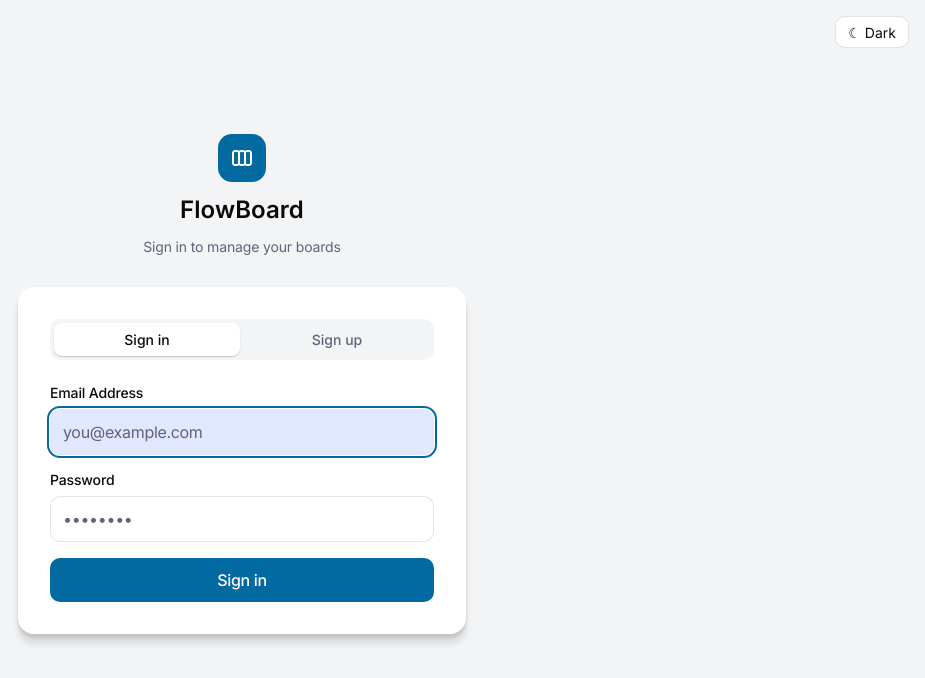
it: sign-in form › announces errors and declares the email autocomplete token
Type "a@b.co" into the field labelled "Email Address". click: (242, 432)
box: [50,409,434,455]
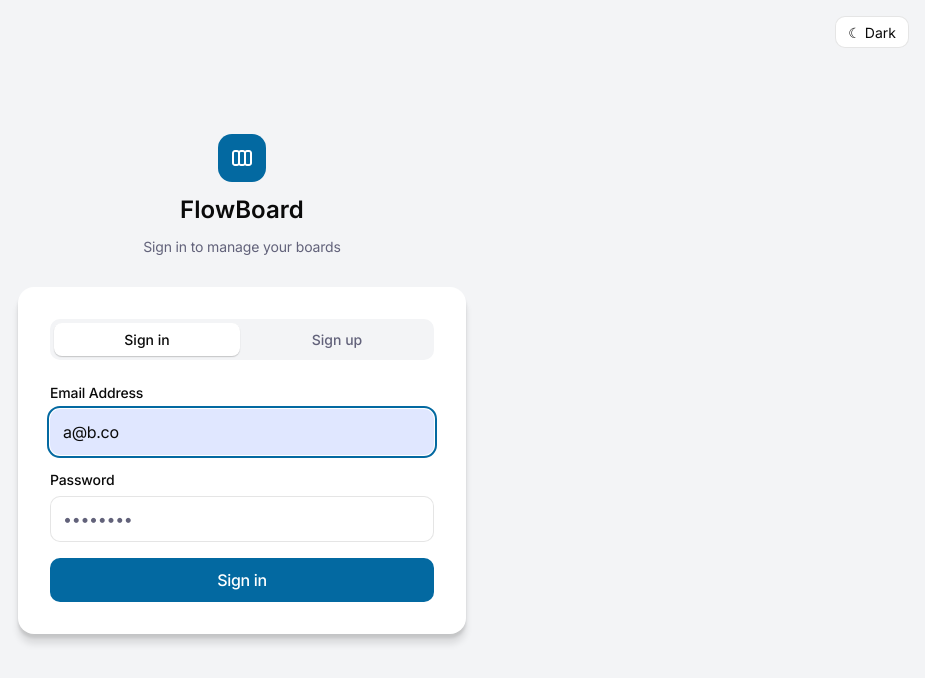
Type "pw-pw-pw-pw" into the password field labelled "Password". click: (242, 519)
box: [50,496,434,542]
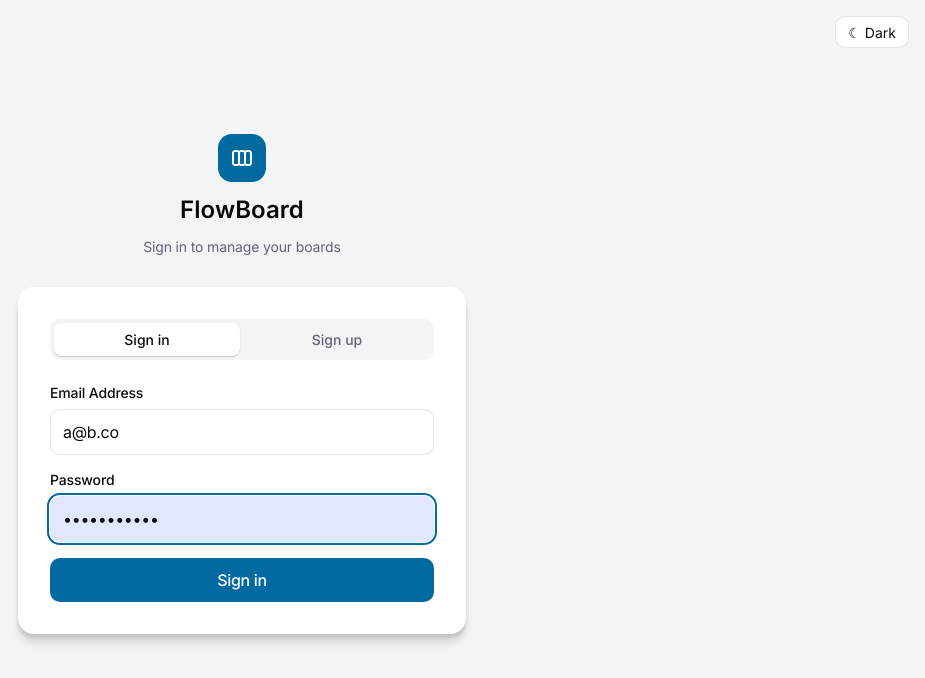
Press Enter
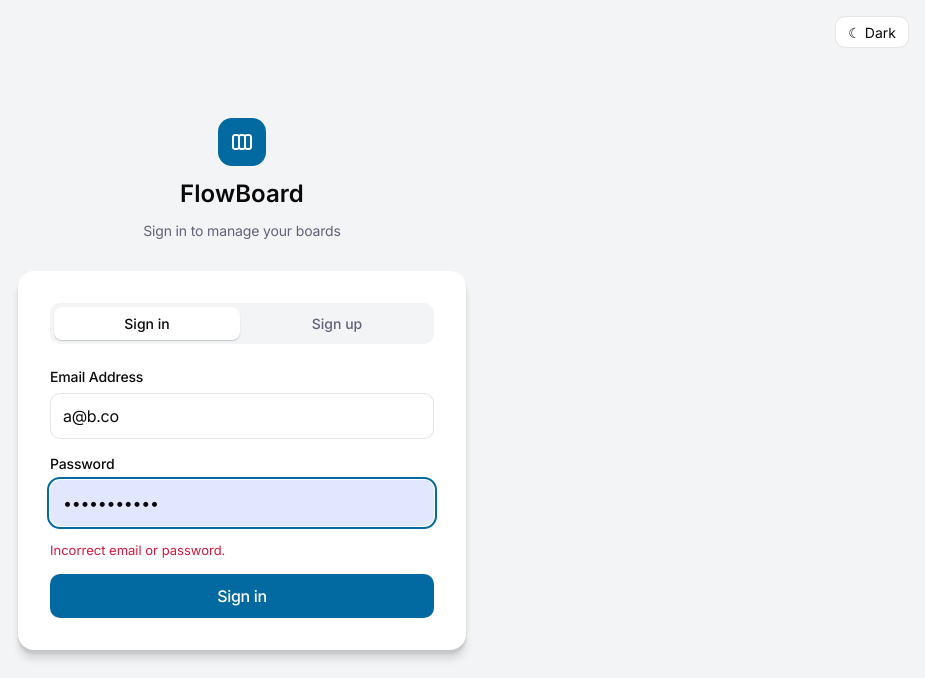
Result: the message reads "Incorrect email or password." at [50,542,225,558]
